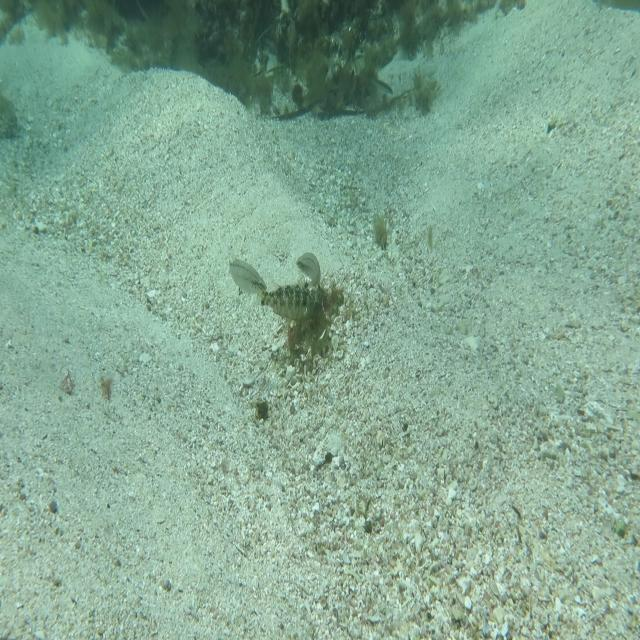NIP_CORE: (254, 276, 326, 326)
female: (223, 254, 270, 299), (290, 249, 324, 292)
nest: (276, 264, 346, 357)
vegetation: (83, 0, 450, 44), (216, 45, 434, 101), (370, 201, 392, 253)
